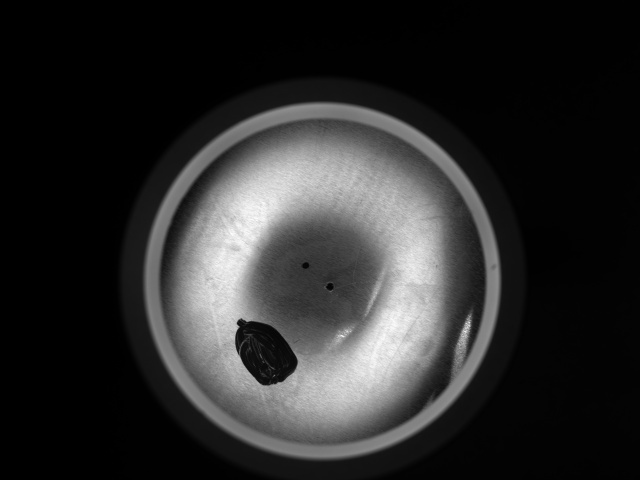zang_wu: (233, 315, 302, 387)
zhen_kong: (298, 258, 312, 271), (322, 279, 334, 293)
